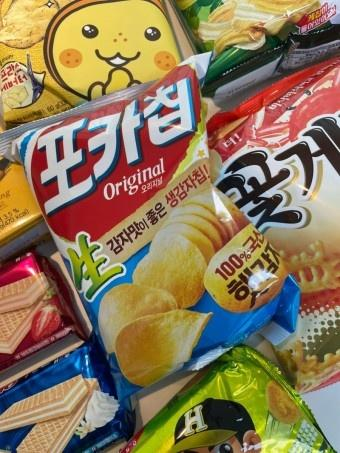snack: (0, 52, 303, 403)
